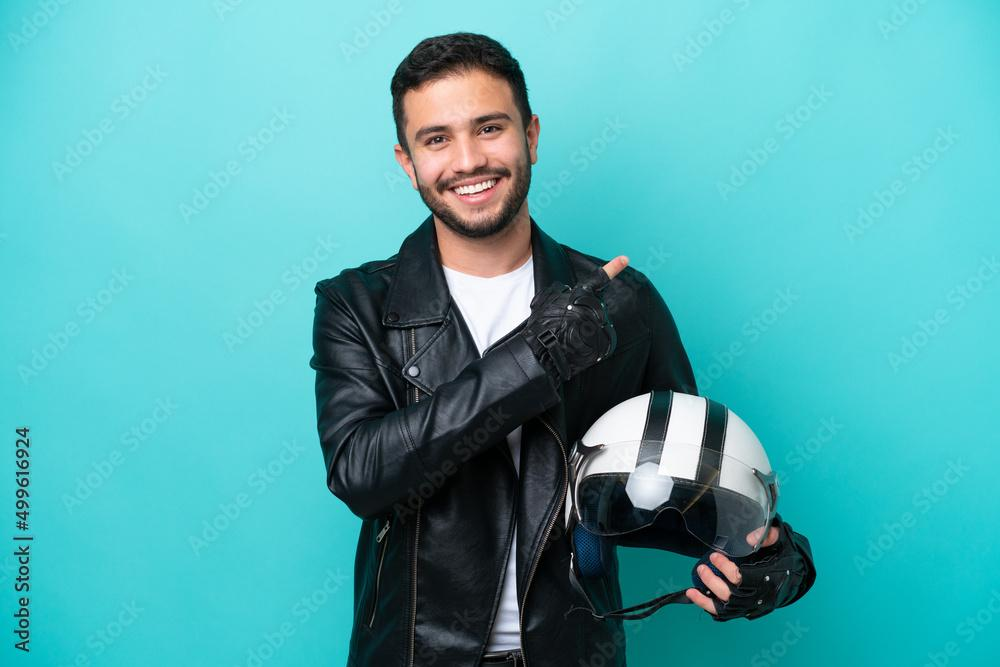helmet: (560, 388, 781, 623)
nohelmet: (388, 30, 542, 240)
